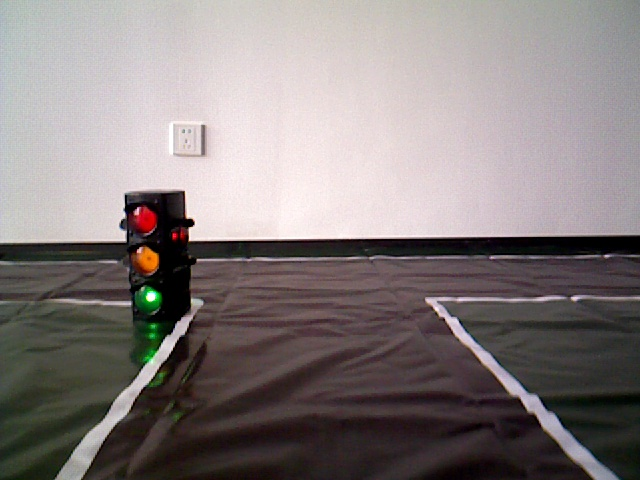green: (127, 193, 186, 309)
